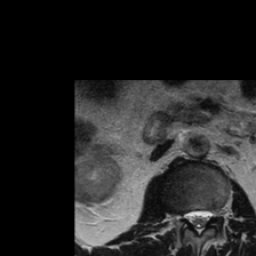CCS_normal: (194, 203, 202, 239)
LFS_normal: (213, 203, 221, 221)
LLS_normal: (203, 203, 211, 228)
RFS_stenosis: (177, 204, 186, 228)
RLS_normal: (186, 203, 194, 229)
